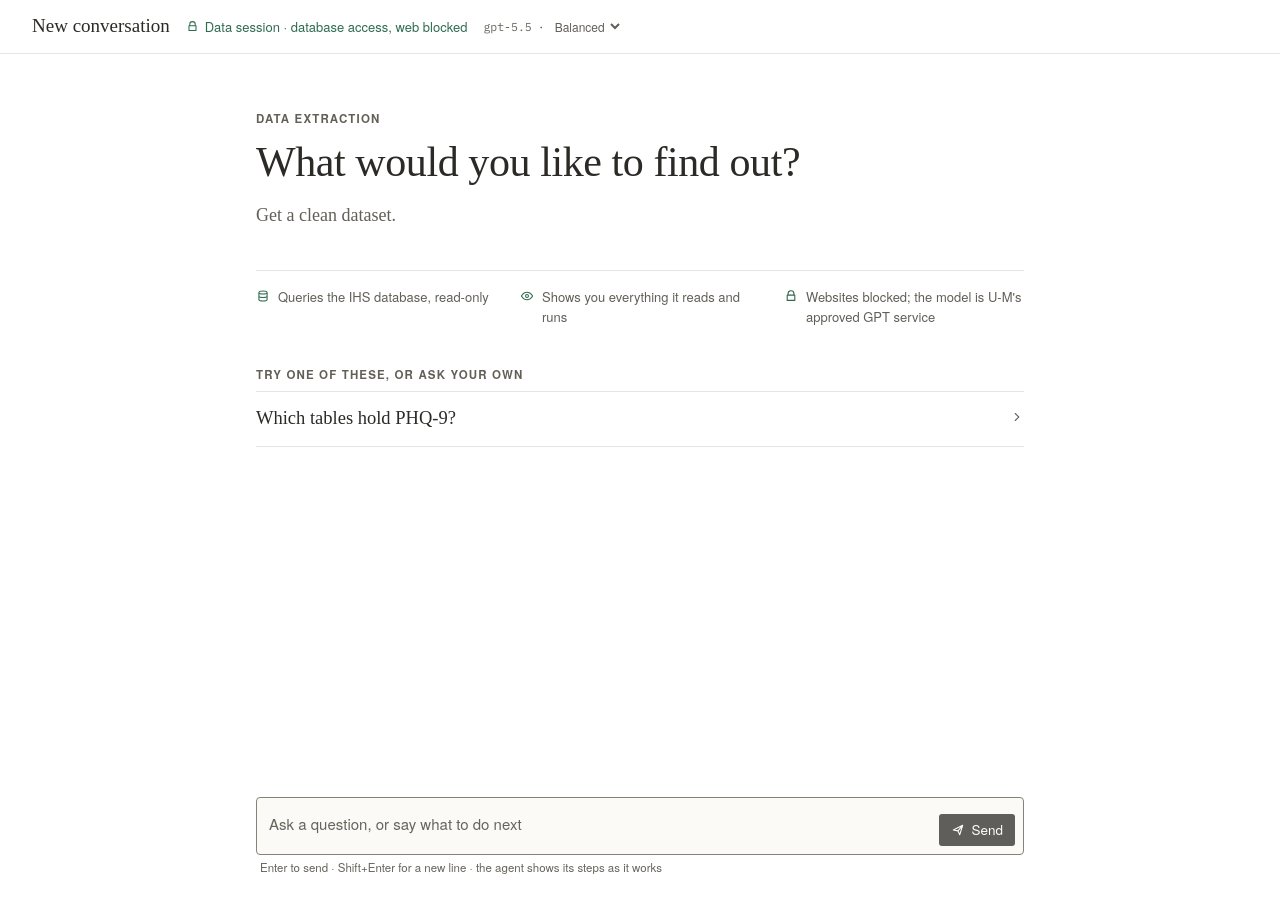
Test case: lists a conversation it made even when the first message fails
Expected: the text "Data session · database access, web blocked" is shown, left=186, top=16, right=467, bottom=36
Type "Which tables hold sleep?" into the text box named "Your question or instruction".
click(600, 826); type("Which tables hold sleep?")  # box left=269, top=806, right=932, bottom=846
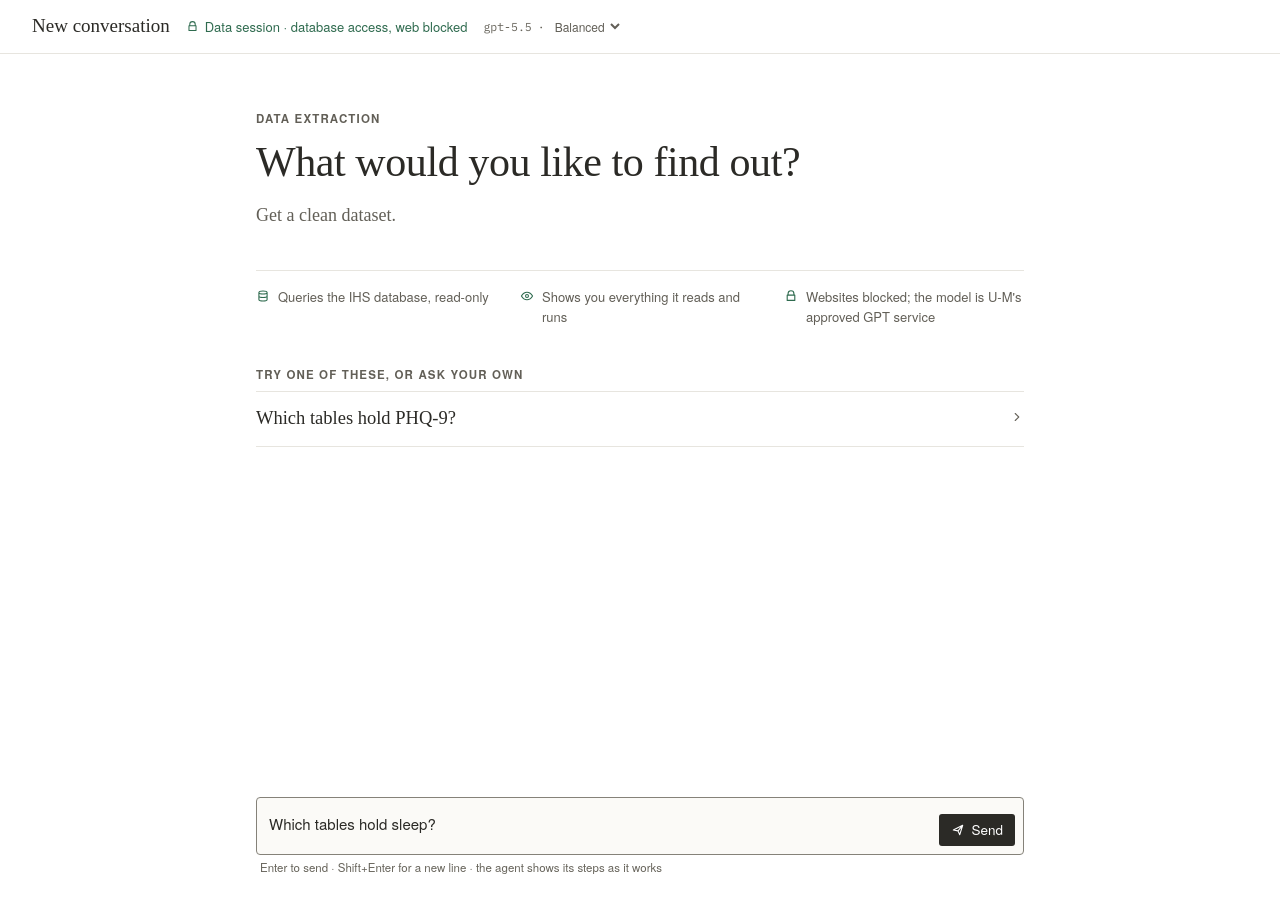
Click the button "Send".
click(977, 830)  # box left=940, top=814, right=1015, bottom=846
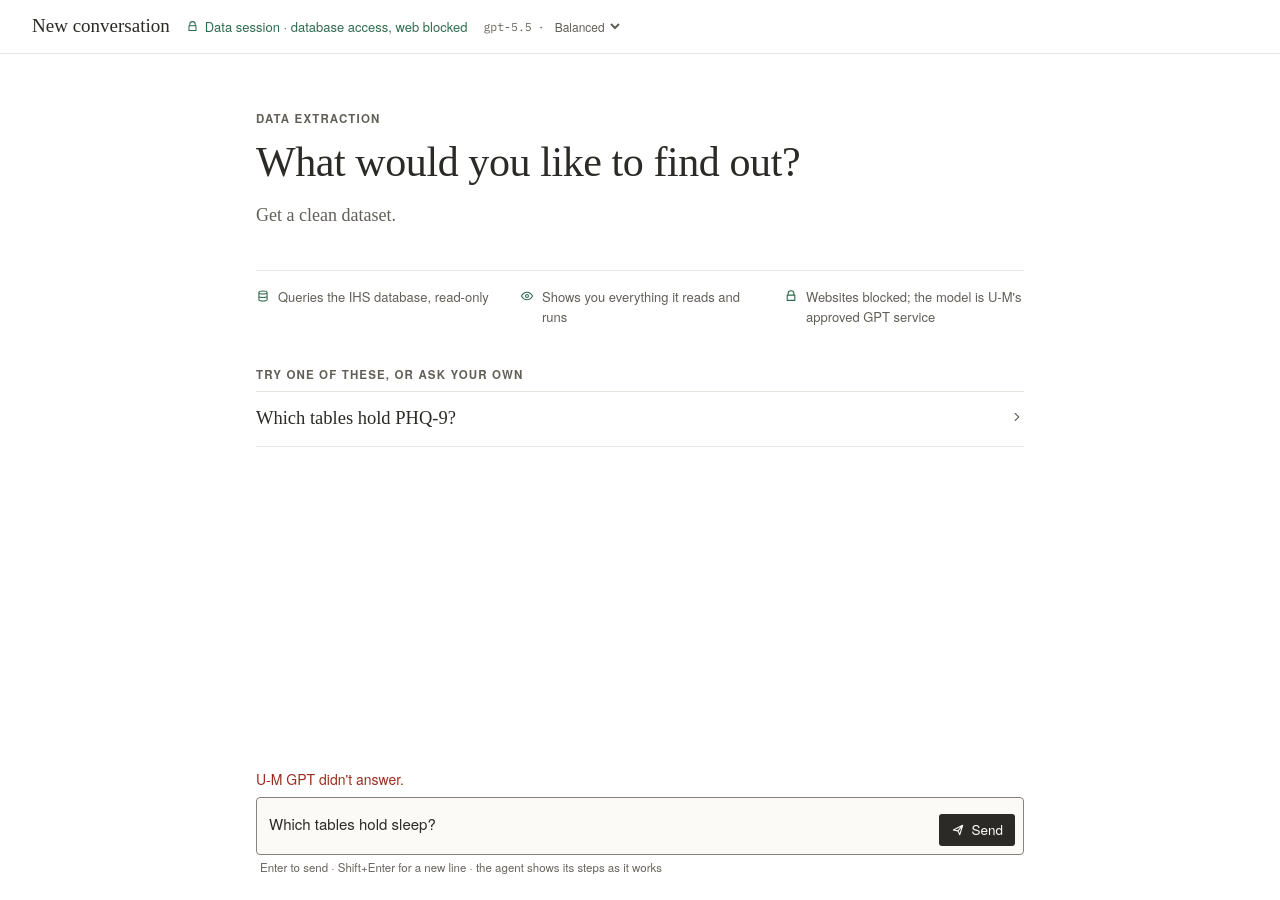
Result: the text "U-M GPT didn't answer." is shown at left=256, top=769, right=404, bottom=789
